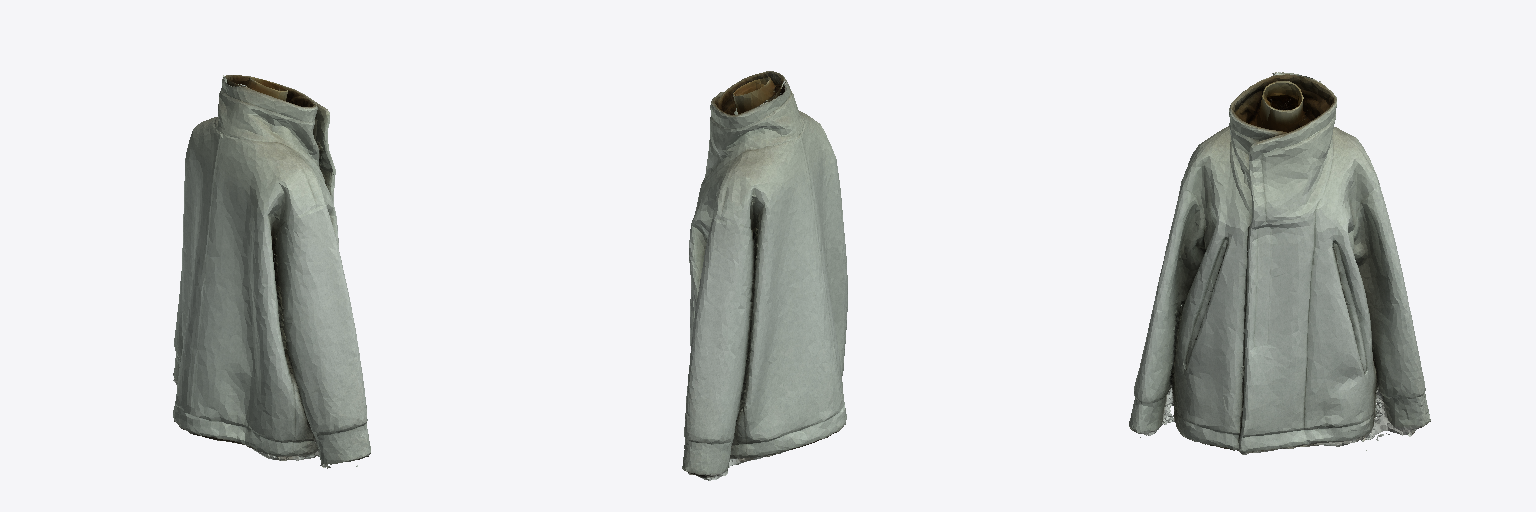
3 renders of one model, left to right at view 1: azimuth 30°, elevation 25°; view 2: azimuth 150°, elevation 25°; view 3: azimuth 270°, elevation 25°, orthographic.
Parts seen in each view (by area): view 1: mesh.020; view 2: mesh.020; view 3: mesh.020.
Boxes of the visible parts, box(x1,y1,x2,y2) form: mesh.020: box(173, 75, 370, 468); mesh.020: box(682, 71, 847, 480); mesh.020: box(1129, 72, 1430, 454).
Bounding box in the file's own units: 4.25 × 9.73 × 7.57.
Materials: 2 (2 with a texture image).